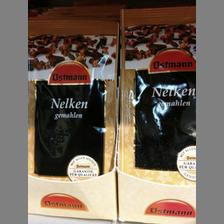Gewuerze: (27, 16, 119, 180), (120, 5, 194, 183)
